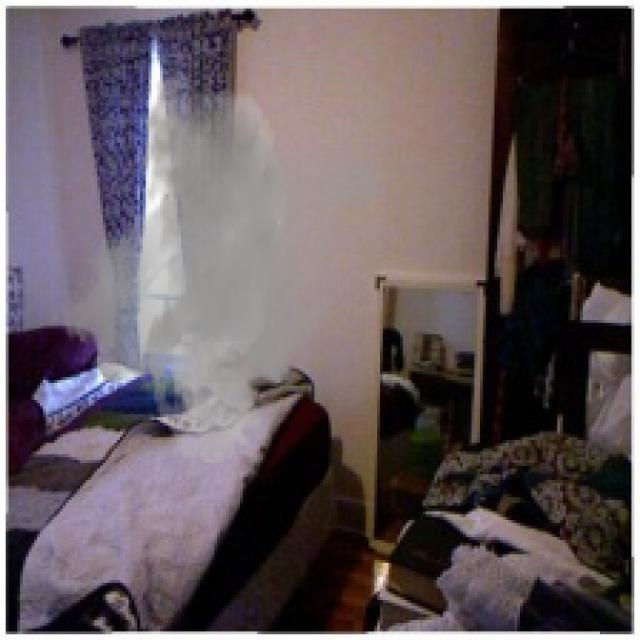Smoke: (52, 71, 397, 466)
